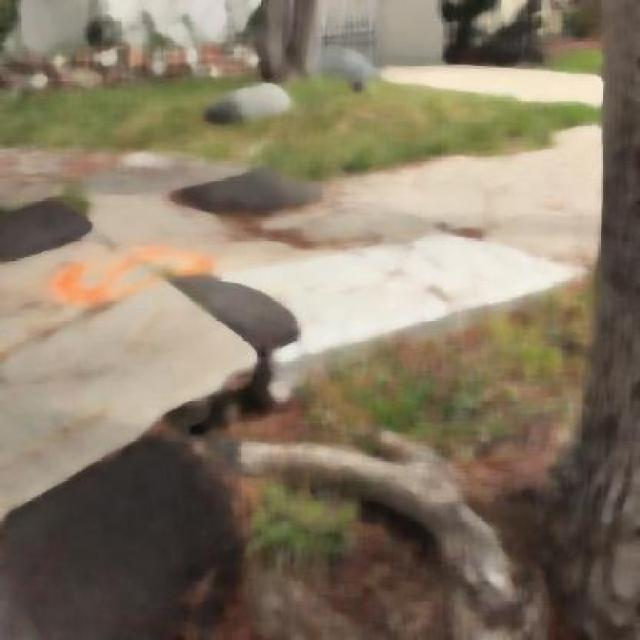Pothole: (173, 374, 290, 434)
